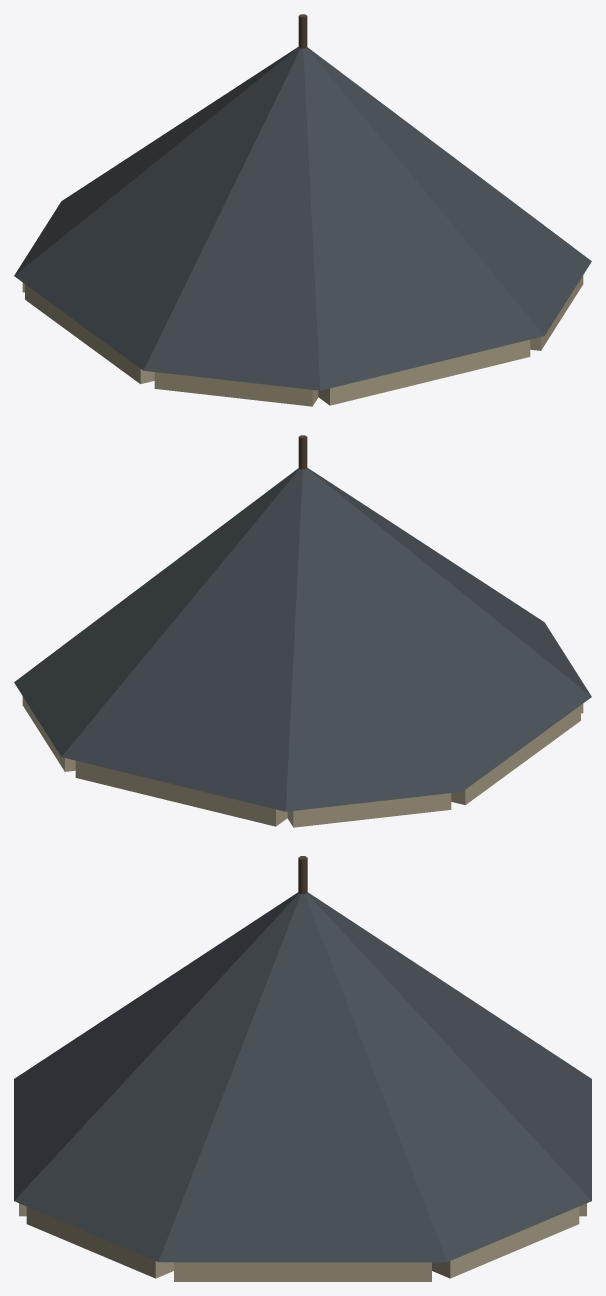
Rendered from reconstruction-tower-top.glb.
The picture shows the model from 3 angles, top to bottom: view 1: azimuth 30°, elevation 25°; view 2: azimuth 150°, elevation 25°; view 3: azimuth 270°, elevation 25°; orthographic projection. The views are drawn at different scales.
Visible parts, largest first — view 1: Mesh_SlateRoof, Mesh_LimestoneStructure; view 2: Mesh_SlateRoof, Mesh_LimestoneStructure; view 3: Mesh_SlateRoof, Mesh_LimestoneStructure.
Boxes of the visible parts, x1,y1,x2,y2 form: Mesh_SlateRoof: (14,47,591,390); Mesh_LimestoneStructure: (22,275,583,406); Mesh_SlateRoof: (14,468,591,811); Mesh_LimestoneStructure: (22,696,583,827); Mesh_SlateRoof: (14,892,591,1262); Mesh_LimestoneStructure: (19,1203,586,1281).
Bounding box in the file's own units: 6.72 × 3.9 × 6.72.
